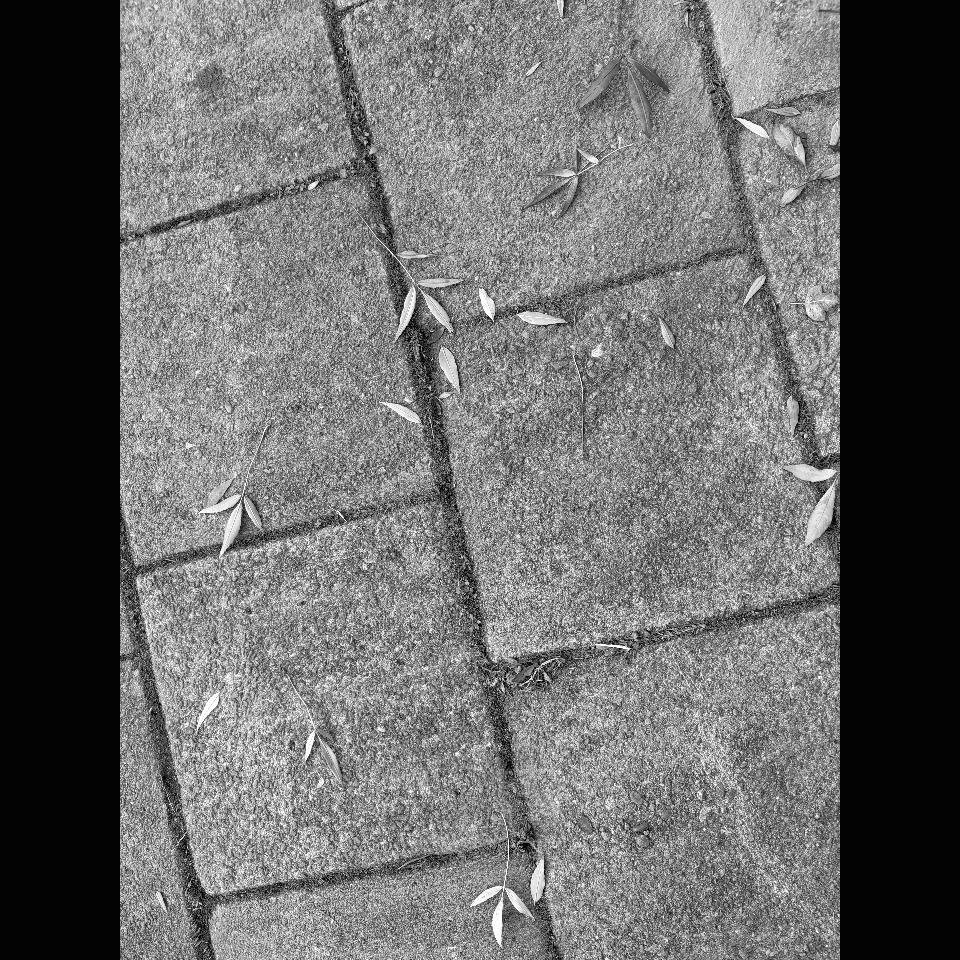weed: (476, 654, 565, 692), (277, 177, 307, 198), (456, 576, 477, 600), (466, 611, 481, 633), (409, 338, 423, 361), (353, 124, 370, 141), (628, 631, 640, 649), (456, 557, 471, 571), (478, 656, 489, 673), (342, 81, 353, 98), (692, 623, 706, 633), (314, 521, 321, 527)
